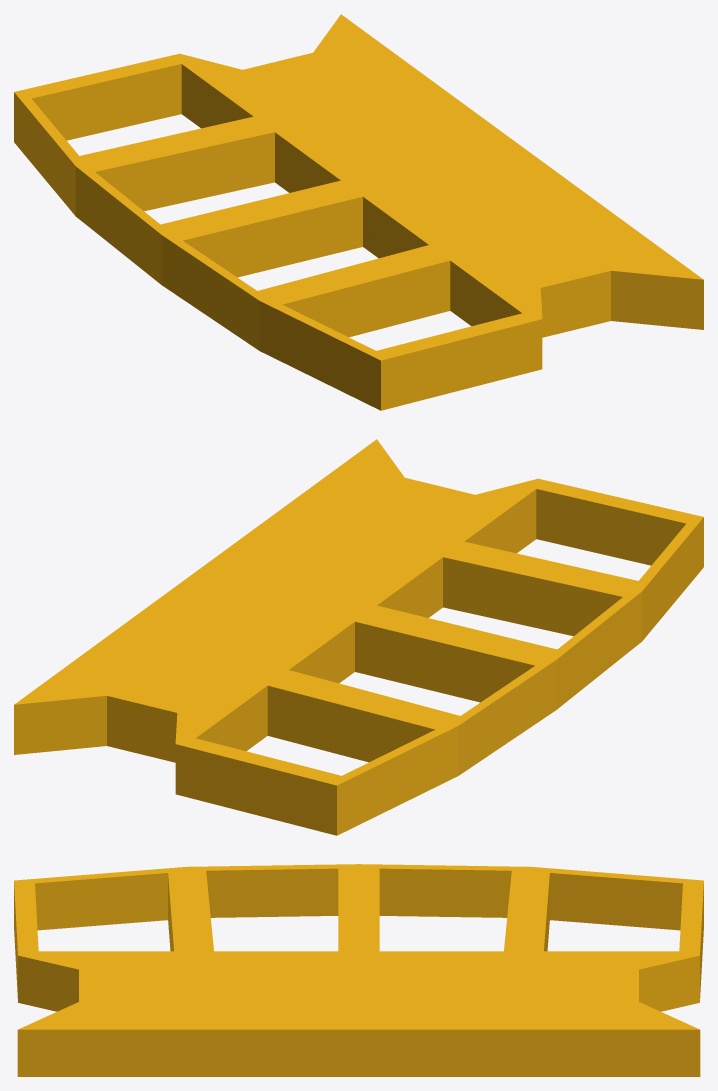
The model's file is BrassKnuckles.obj.
The picture shows the model from 3 angles, top to bottom: view 1: azimuth 30°, elevation 25°; view 2: azimuth 150°, elevation 25°; view 3: azimuth 270°, elevation 25°; orthographic projection. The views are drawn at different scales.
Parts seen in each view (by area): view 1: BrassKnuckles_Cube.009; view 2: BrassKnuckles_Cube.009; view 3: BrassKnuckles_Cube.009.
Boxes of the visible parts, x1,y1,x2,y2 form: BrassKnuckles_Cube.009: (14,14,703,410); BrassKnuckles_Cube.009: (14,439,703,835); BrassKnuckles_Cube.009: (14,864,703,1076).
Bounding box in the file's own units: 0.0302 × 0.00401 × 0.0532.
1 material, 1 textured.
